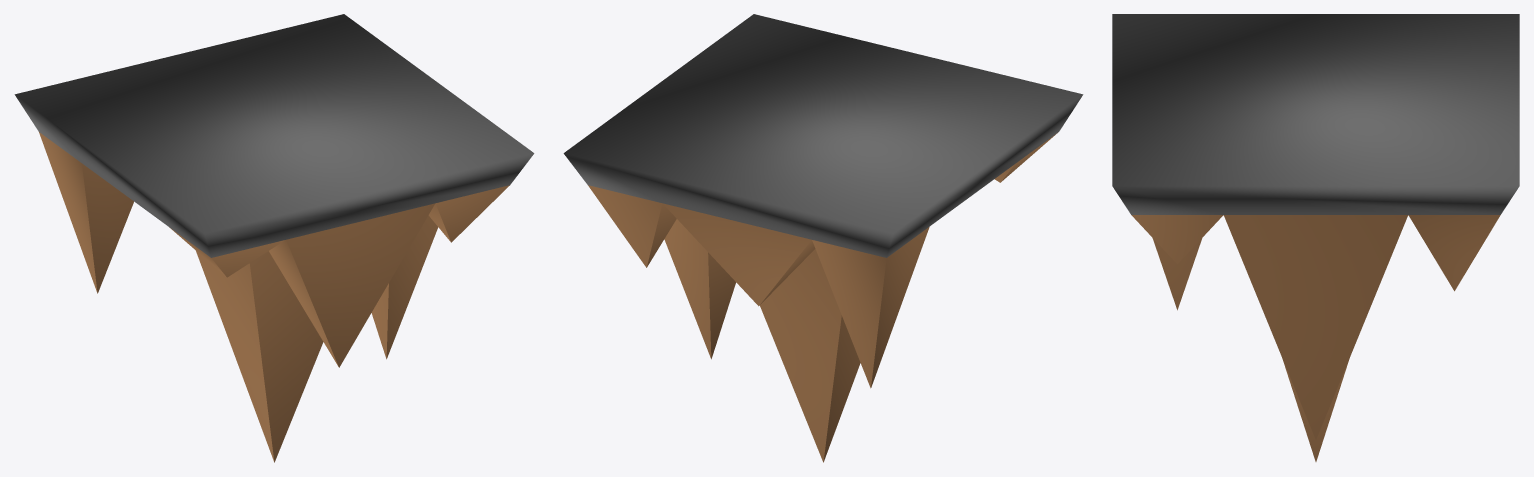
Rendered from ground.fbx.
The picture shows the model from 3 angles, left to right: view 1: azimuth 30°, elevation 25°; view 2: azimuth 150°, elevation 25°; view 3: azimuth 270°, elevation 25°; orthographic projection. The views are drawn at different scales.
Parts seen in each view (by area): view 1: Cube; view 2: Cube; view 3: Cube.
Boxes of the visible parts, box(x1,y1,x2,y2) form: Cube: box(14, 14, 534, 462); Cube: box(563, 14, 1083, 462); Cube: box(1112, 14, 1519, 461).
Bounding box in the file's own units: 50 × 49.15 × 50.
1 material, 1 textured.
